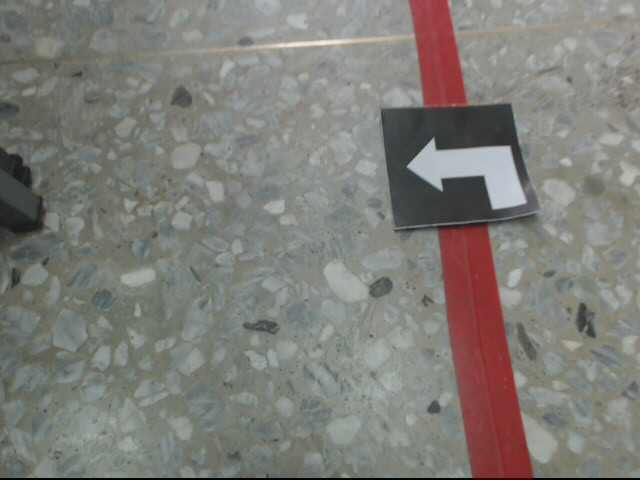left: (380, 105, 537, 231)
